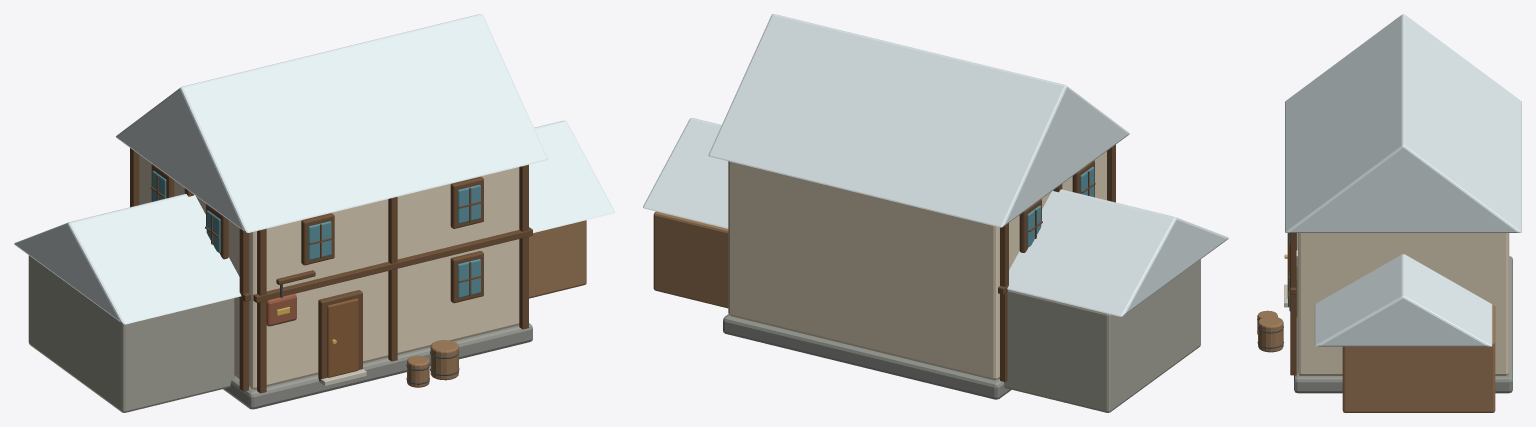
Rendered from snowy-inn-1.glb.
3 views of the same model, side by side, from view 1: azimuth 30°, elevation 25°; view 2: azimuth 150°, elevation 25°; view 3: azimuth 270°, elevation 25° (orthographic). The views are drawn at different scales.
Parts seen in each view (by area): view 1: Snow, Warm lime, Fieldstone, Dark beams, Aged oak, Foundation stone, Blue glass, Door oak, Painted sign; view 2: Snow, Warm lime, Fieldstone, Aged oak, Foundation stone, Dark beams, Blue glass; view 3: Snow, Warm lime, Aged oak, Foundation stone, Dark beams.
Boxes of the visible parts, x1=… form: Snow: x1=14, y1=14, x2=614, y2=324; Warm lime: x1=139, y1=155, x2=519, y2=389; Fieldstone: x1=28, y1=255, x2=235, y2=412; Dark beams: x1=130, y1=148, x2=532, y2=393; Aged oak: x1=407, y1=220, x2=586, y2=387; Foundation stone: x1=223, y1=323, x2=532, y2=409; Blue glass: x1=152, y1=170, x2=480, y2=297; Door oak: x1=327, y1=298, x2=358, y2=377; Painted sign: x1=266, y1=294, x2=296, y2=326; Snow: x1=643, y1=14, x2=1228, y2=316; Warm lime: x1=728, y1=151, x2=1106, y2=380; Fieldstone: x1=999, y1=259, x2=1200, y2=412; Aged oak: x1=653, y1=211, x2=728, y2=308; Foundation stone: x1=723, y1=314, x2=1011, y2=399; Dark beams: x1=998, y1=144, x2=1115, y2=381; Blue glass: x1=1027, y1=167, x2=1094, y2=246; Snow: x1=1285, y1=14, x2=1521, y2=346; Warm lime: x1=1297, y1=233, x2=1509, y2=375; Aged oak: x1=1257, y1=305, x2=1495, y2=412; Foundation stone: x1=1294, y1=256, x2=1512, y2=393; Dark beams: x1=1288, y1=233, x2=1297, y2=375.
Size of the model in its own units: 8.3 by 4.48 by 4.25.
